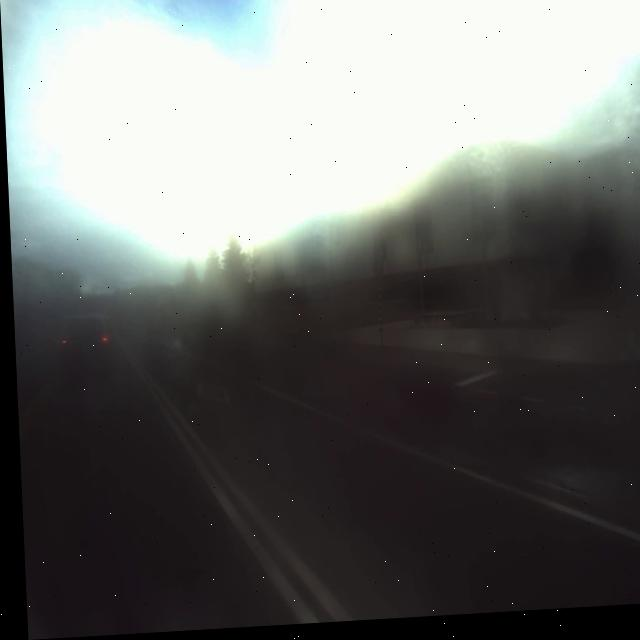car: (53, 308, 114, 385)
